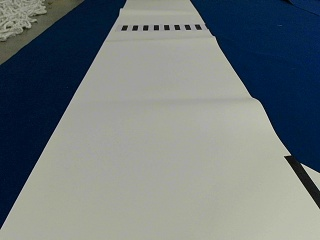crosswalk: (121, 23, 201, 31)
